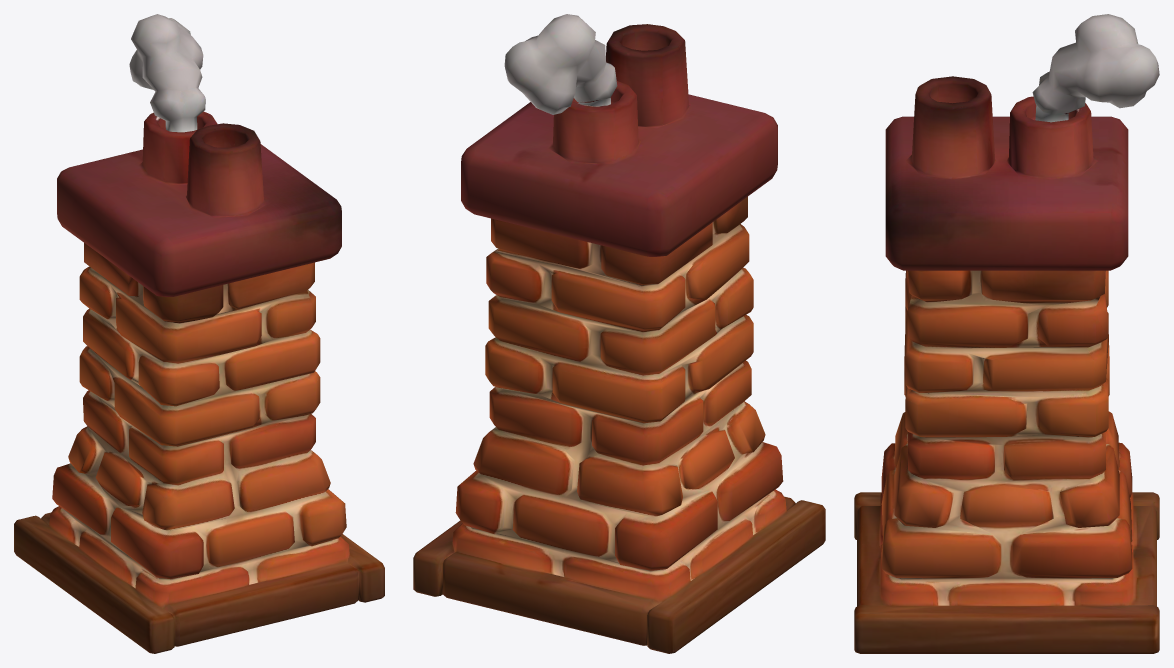
The model's file is chimney.glb.
3 views of the same model, side by side, from view 1: azimuth 30°, elevation 25°; view 2: azimuth 150°, elevation 25°; view 3: azimuth 270°, elevation 25° (orthographic). The views are drawn at different scales.
Parts seen in each view (by area): view 1: tripo_node_47ce20ae-4bee-43cb-9cb1-84dc2045f703; view 2: tripo_node_47ce20ae-4bee-43cb-9cb1-84dc2045f703; view 3: tripo_node_47ce20ae-4bee-43cb-9cb1-84dc2045f703.
Boxes of the visible parts, bbox=[...] form: tripo_node_47ce20ae-4bee-43cb-9cb1-84dc2045f703: bbox=[14, 14, 384, 653]; tripo_node_47ce20ae-4bee-43cb-9cb1-84dc2045f703: bbox=[413, 14, 825, 653]; tripo_node_47ce20ae-4bee-43cb-9cb1-84dc2045f703: bbox=[854, 14, 1159, 653].
Size of the model in its own units: 0.4488 by 0.9596 by 0.4601.
Materials: 1 (1 with a texture image).
